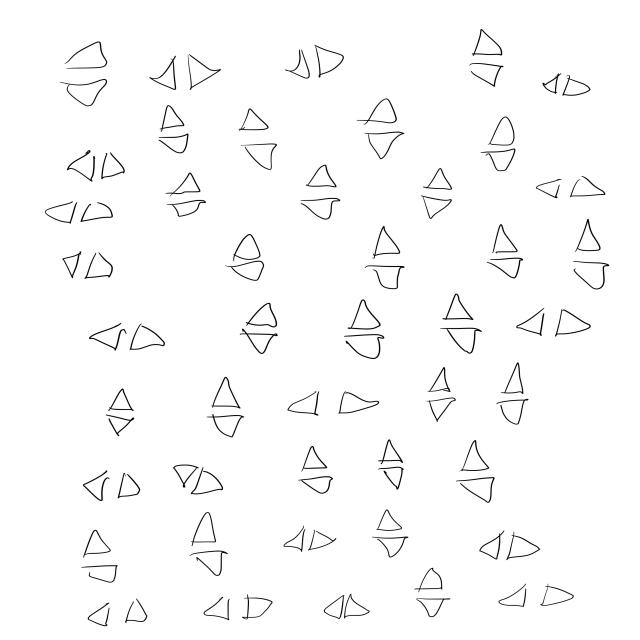IncDec: (180, 511, 251, 589), (54, 28, 118, 114), (60, 526, 140, 594), (82, 308, 168, 362), (87, 379, 151, 451), (566, 214, 619, 300), (141, 44, 221, 100), (331, 296, 393, 365), (352, 89, 405, 169), (200, 377, 266, 440), (508, 303, 606, 344), (461, 27, 519, 96), (450, 439, 508, 508), (237, 101, 287, 179), (491, 576, 591, 615), (38, 191, 125, 235), (361, 507, 424, 564), (282, 385, 383, 419), (287, 35, 353, 87), (75, 467, 152, 511), (164, 454, 229, 506), (158, 166, 213, 226), (434, 291, 486, 354), (52, 245, 128, 288), (476, 519, 548, 564), (49, 143, 132, 182), (83, 601, 184, 633), (478, 118, 529, 181), (287, 445, 345, 500), (406, 563, 458, 624), (300, 158, 344, 230), (225, 227, 272, 293), (538, 165, 610, 208), (194, 593, 289, 625), (235, 298, 285, 357), (368, 224, 411, 292), (155, 104, 204, 163), (482, 222, 528, 282), (494, 359, 536, 423), (536, 59, 594, 104), (375, 433, 417, 492), (415, 161, 457, 219), (271, 524, 345, 555), (426, 364, 460, 428), (316, 591, 378, 625)
